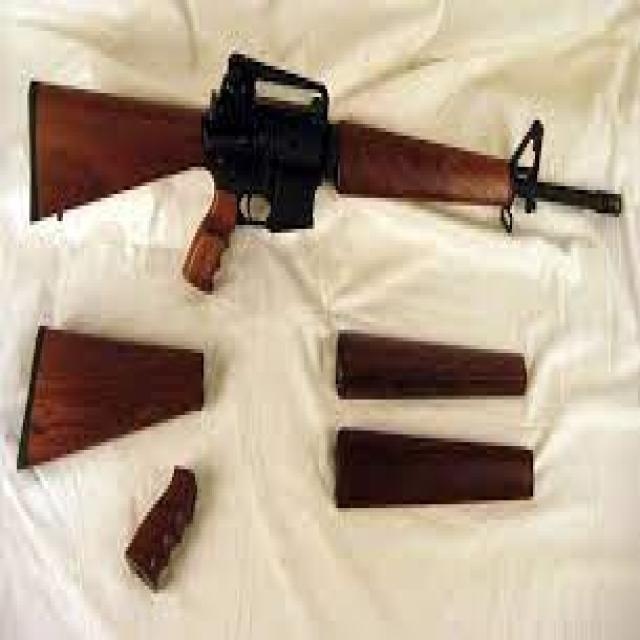weapon: (26, 51, 625, 297)
